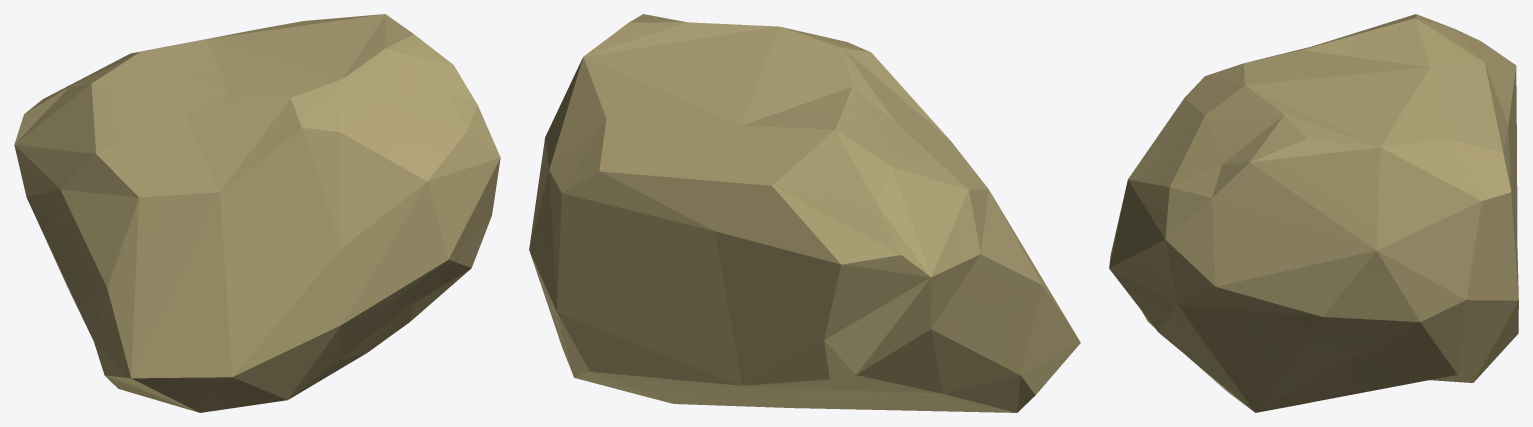
File: SM_small_rock_59.fbx
The picture shows the model from 3 angles, left to right: view 1: azimuth 30°, elevation 25°; view 2: azimuth 150°, elevation 25°; view 3: azimuth 270°, elevation 25°; orthographic projection. The views are drawn at different scales.
Parts seen in each view (by area): view 1: small_rock_59; view 2: small_rock_59; view 3: small_rock_59.
Boxes of the visible parts, left/top/right/bottom form: small_rock_59: left=14, top=14, right=500, bottom=412; small_rock_59: left=529, top=14, right=1080, bottom=412; small_rock_59: left=1109, top=14, right=1518, bottom=412.
Size of the model in its own units: 79.88 by 57.91 by 68.92.
